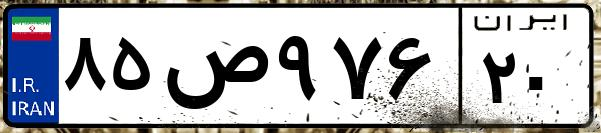0: (525, 38, 570, 115)
2: (475, 38, 525, 113)
5: (110, 28, 158, 98)
6: (385, 28, 445, 110)
7: (330, 28, 385, 110)
8: (57, 26, 110, 100)
9: (270, 28, 330, 110)
ص: (158, 20, 270, 120)
